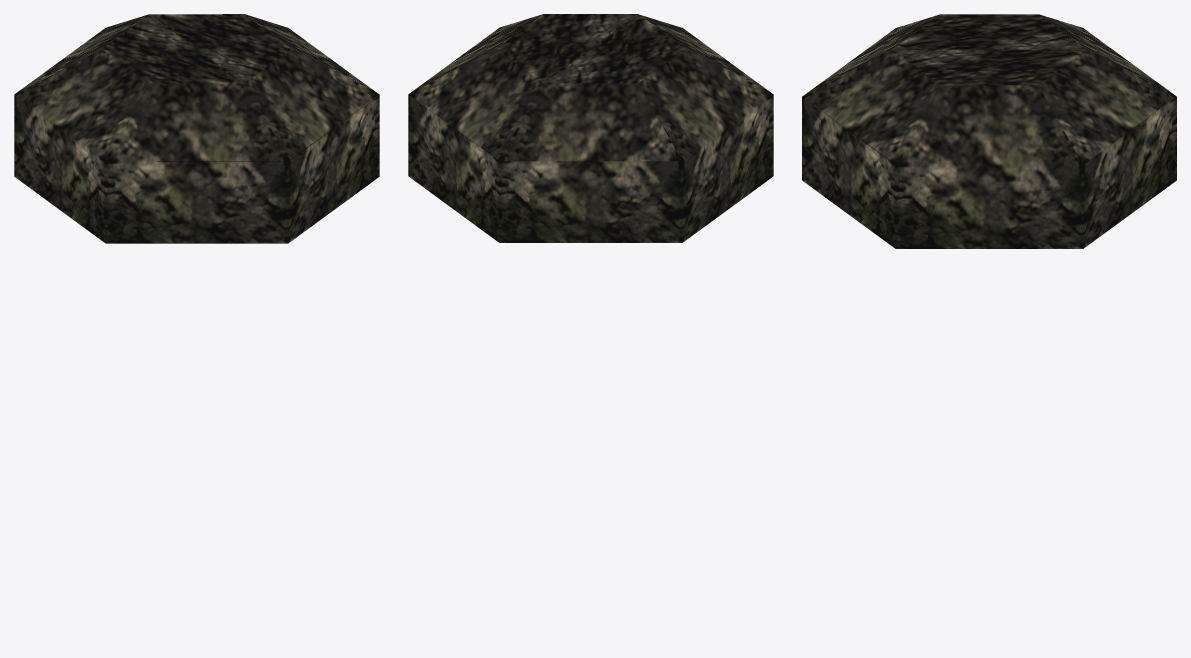
File: srmcamo2_hdtex.glb
3 views of the same model, side by side, from view 1: azimuth 30°, elevation 25°; view 2: azimuth 150°, elevation 25°; view 3: azimuth 270°, elevation 25° (orthographic). The views are drawn at different scales.
Visible parts, largest first — view 1: Doorbase, Door05, Door06, Door03, Door02; view 2: Doorbase, Door02, Door06, Door03, Door05; view 3: Doorbase, Door03, Door05, Door02, Door06.
Part boxes in pixels (x1,y1,x2,y2): Doorbase: (14, 34, 379, 243); Door05: (105, 48, 379, 161); Door06: (14, 14, 243, 161); Door03: (150, 14, 376, 92); Door02: (15, 14, 263, 93); Doorbase: (408, 27, 773, 242); Door02: (409, 48, 681, 161); Door06: (544, 14, 773, 160); Door03: (409, 14, 637, 93); Door05: (499, 14, 771, 93); Doorbase: (802, 28, 1176, 248); Door03: (893, 49, 1085, 165); Door05: (803, 14, 941, 164); Door02: (1038, 14, 1176, 164); Door06: (893, 14, 1085, 49).
Size of the model in its own units: 7.27 by 13.6 by 8.38.
4 materials, 4 textured.
